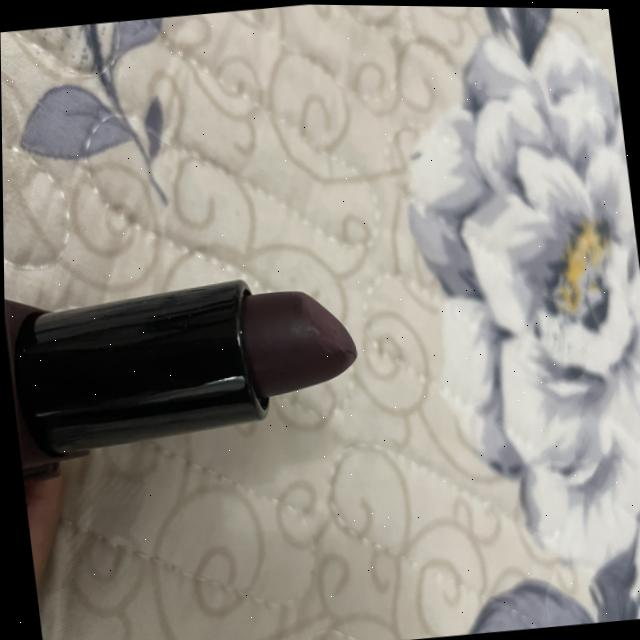lip stick: (3, 221, 380, 508)
